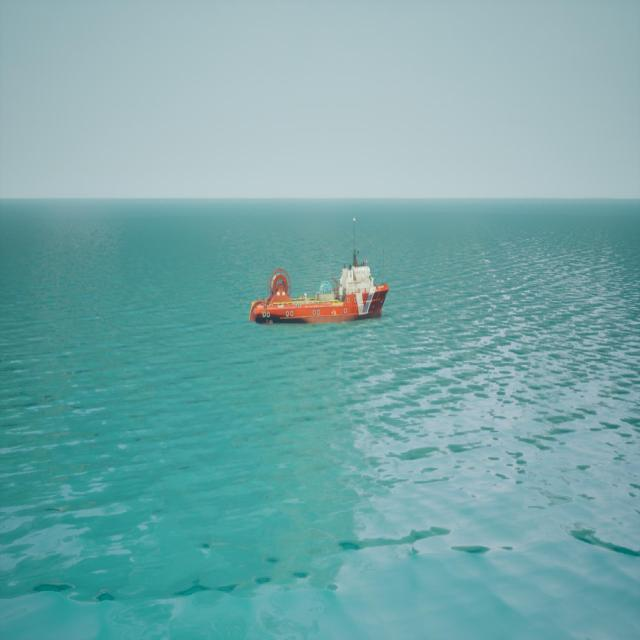tug boat: (250, 220, 392, 328)
